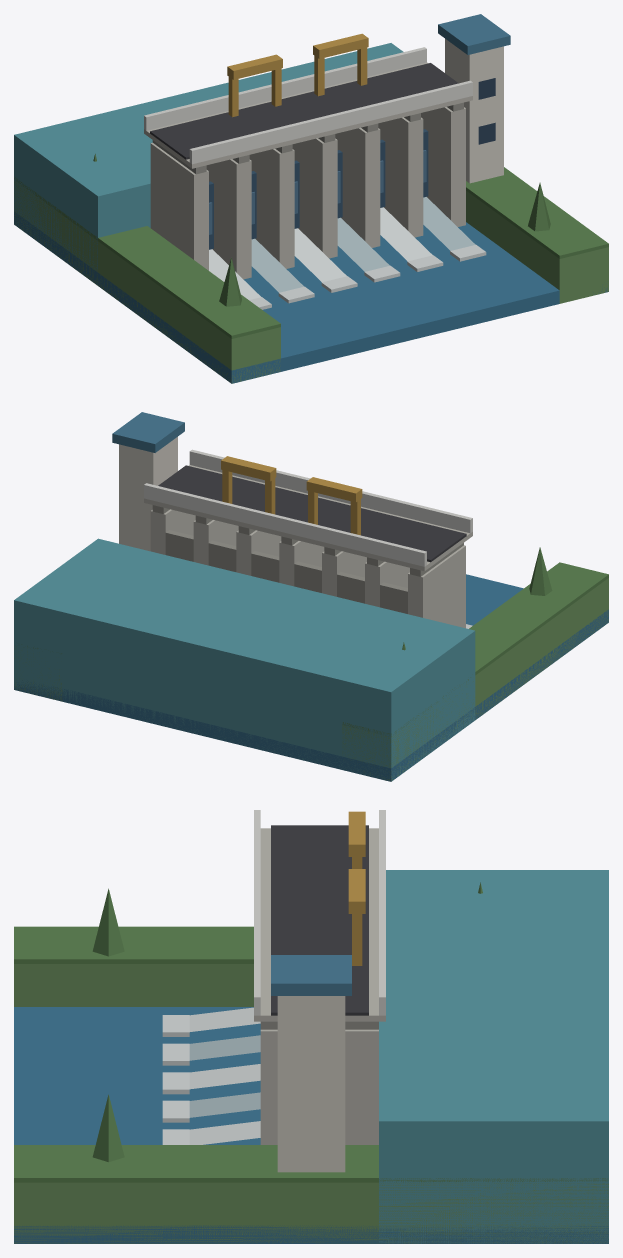
Rendered from barrageNampho.glb.
3 renders of one model, top to bottom at view 1: azimuth 30°, elevation 25°; view 2: azimuth 150°, elevation 25°; view 3: azimuth 270°, elevation 25°, orthographic. The views are drawn at different scales.
Parts seen in each view (by area): view 1: barrageNampho; view 2: barrageNampho; view 3: barrageNampho.
Boxes of the visible parts, bbox=[...] form: barrageNampho: bbox=[14, 14, 608, 383]; barrageNampho: bbox=[14, 412, 608, 781]; barrageNampho: bbox=[14, 810, 608, 1243].
Bounding box in the file's own units: 1.76 × 0.86 × 1.76.
